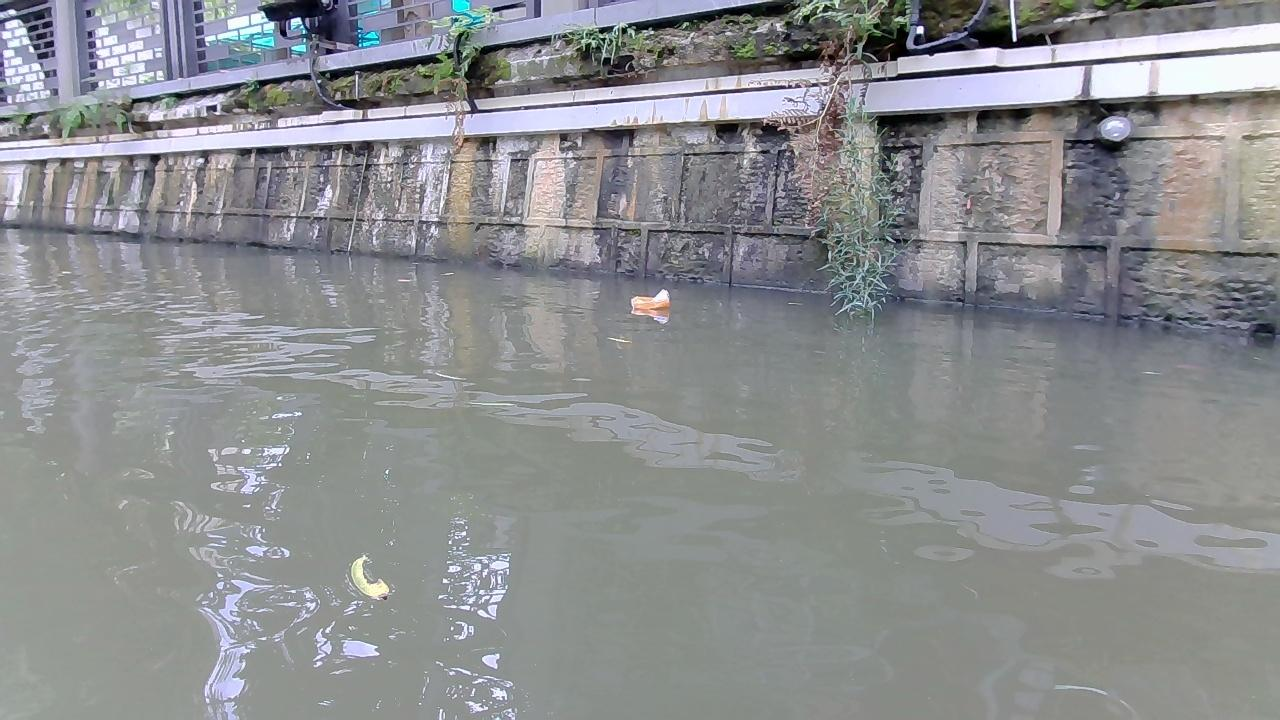bottle: (630, 287, 669, 309)
